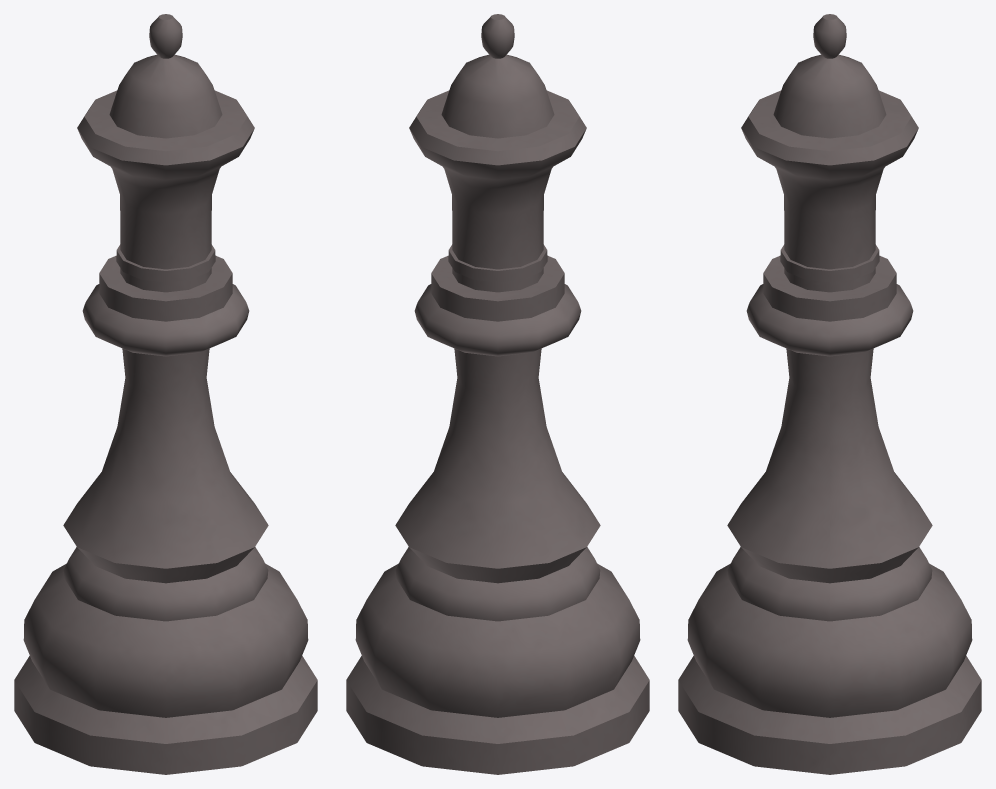
The model's file is Chess_Black_queen.fbx.
3 renders of one model, left to right at view 1: azimuth 30°, elevation 25°; view 2: azimuth 150°, elevation 25°; view 3: azimuth 270°, elevation 25°, orthographic.
Visible parts, largest first — view 1: Chess_pawn.005; view 2: Chess_pawn.005; view 3: Chess_pawn.005.
Boxes of the visible parts, x1,y1,x2,y2 form: Chess_pawn.005: [14, 14, 317, 774]; Chess_pawn.005: [346, 14, 649, 774]; Chess_pawn.005: [678, 14, 981, 774].
Size of the model in its own units: 31.07 by 78.36 by 31.07.
